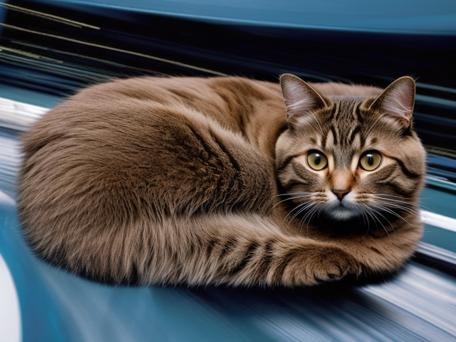cat: (14, 74, 431, 288)
